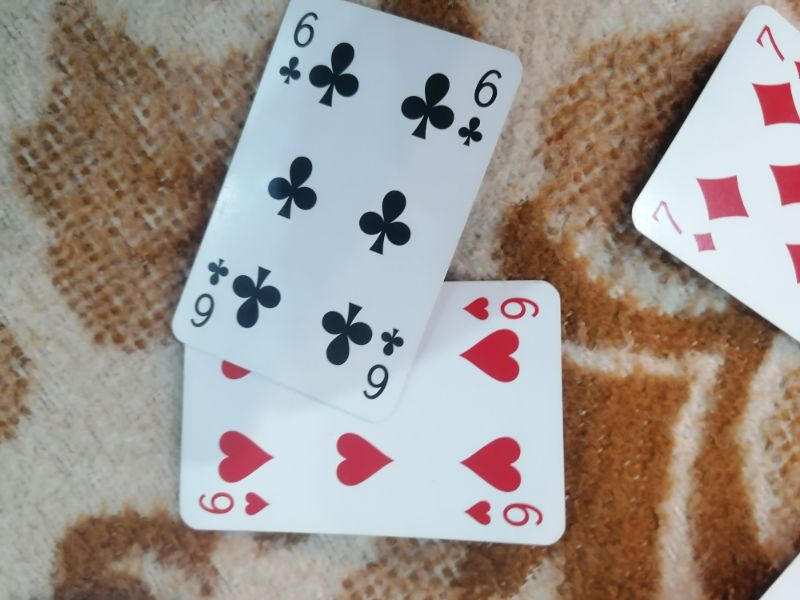6c: (453, 66, 506, 150), (357, 324, 408, 403), (274, 8, 322, 86), (185, 255, 233, 332)
6h: (459, 289, 544, 324), (461, 497, 545, 529), (194, 488, 272, 517)
7d: (648, 198, 719, 255)
